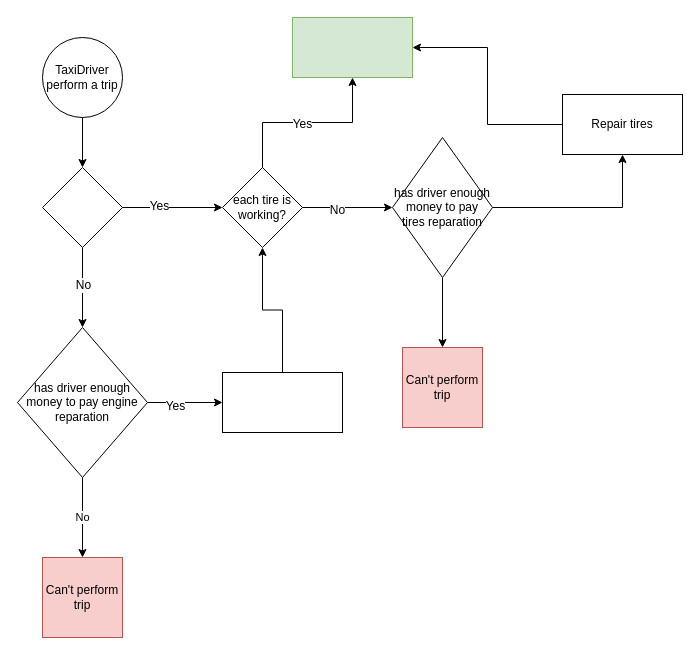
This 700x655 diagram has some shape labels left out. The shapes that lost their labels are listed below. From the top down, each one's box as (x1, y1, x2, y2) in pixels, then its label:
(292, 16, 412, 78): Perform trip
(42, 166, 122, 248): is engine working?
(222, 372, 342, 432): Repair engine
